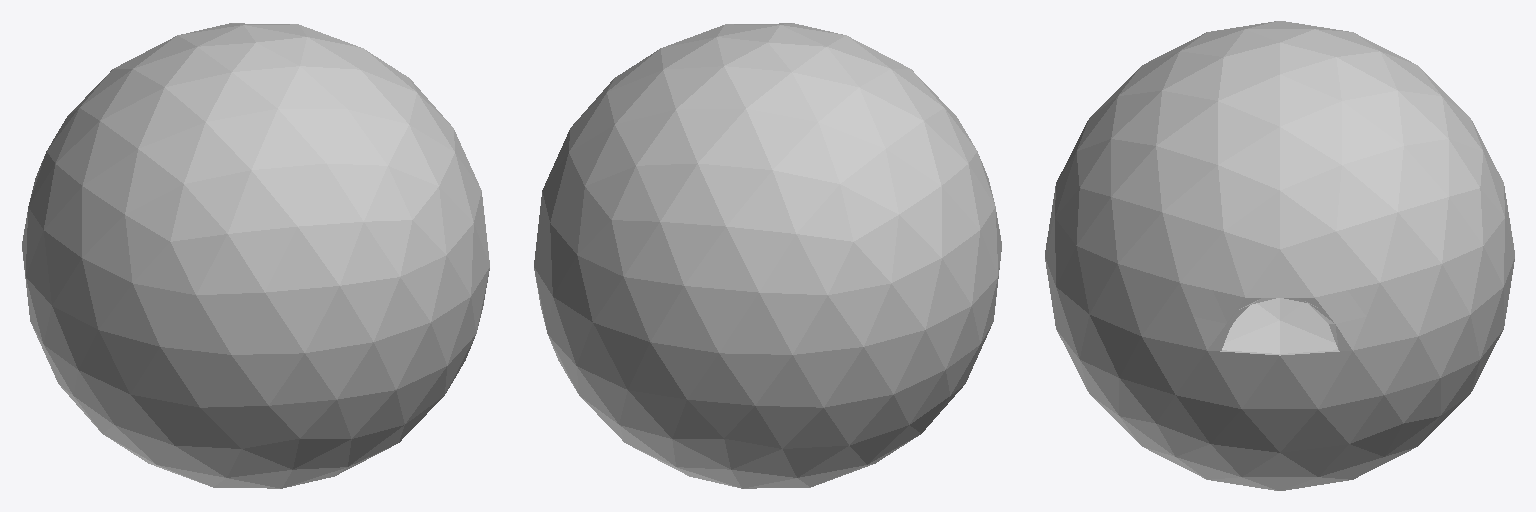
File: icosphere_solid_hole.obj
3 renders of one model, left to right at view 1: azimuth 30°, elevation 25°; view 2: azimuth 150°, elevation 25°; view 3: azimuth 270°, elevation 25°, orthographic.
Visible parts, largest first — view 1: Cylinder; view 2: Cylinder; view 3: Cylinder.
Part boxes in pixels (x1,y1,x2,y2): Cylinder: (22, 23, 489, 488); Cylinder: (534, 23, 1001, 488); Cylinder: (1045, 21, 1514, 490).
Size of the model in its own units: 40 by 40 by 40.